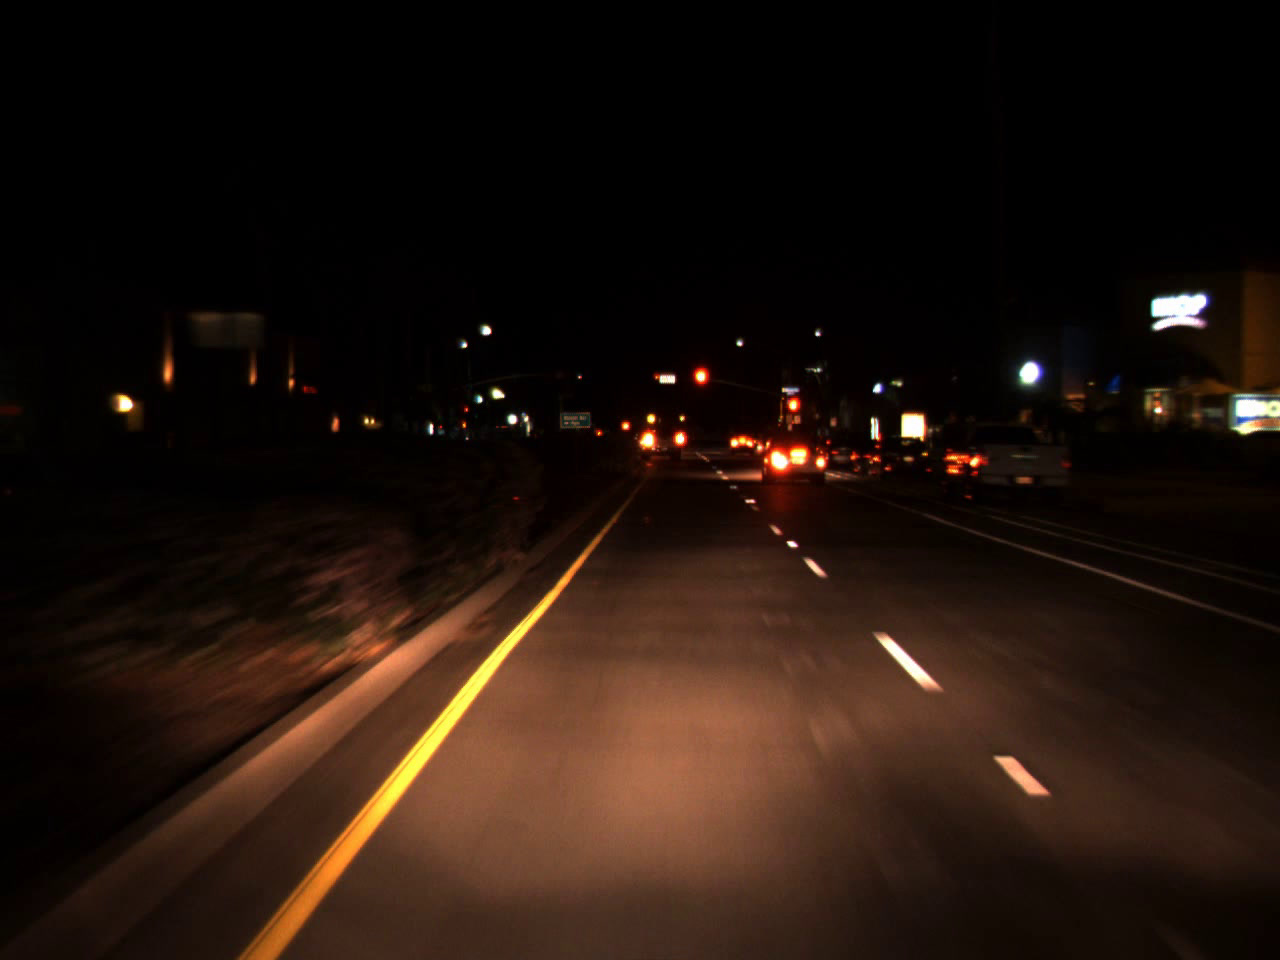stop: (691, 364, 710, 407), (785, 396, 800, 428), (463, 405, 469, 418), (655, 375, 661, 385)
